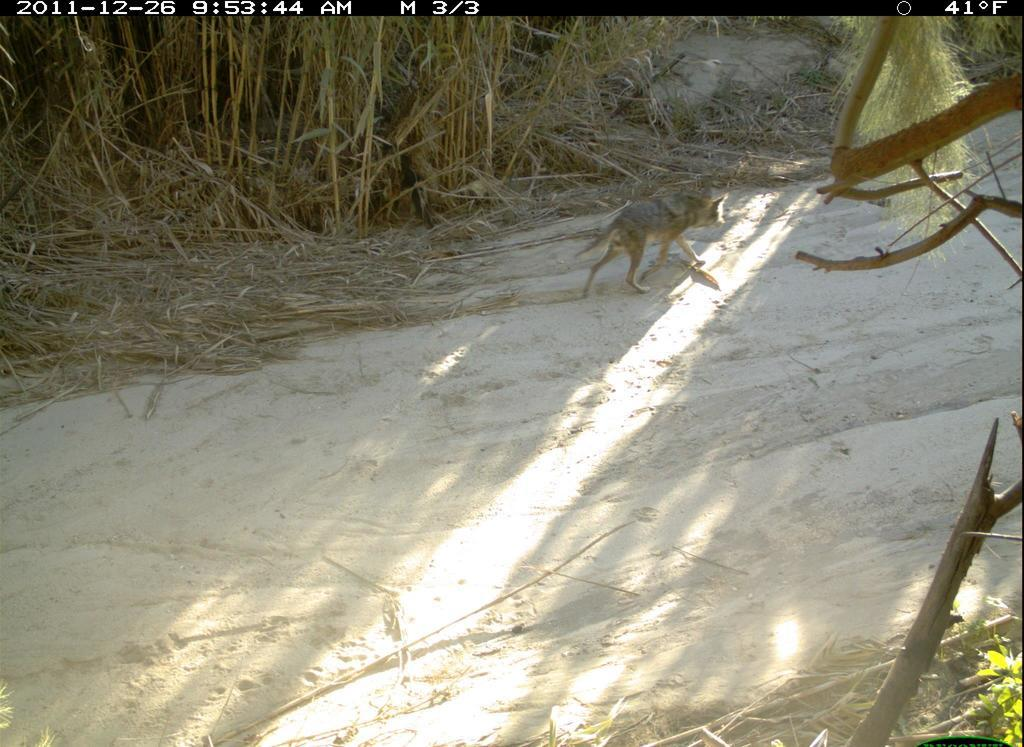coyote: (566, 180, 753, 303)
